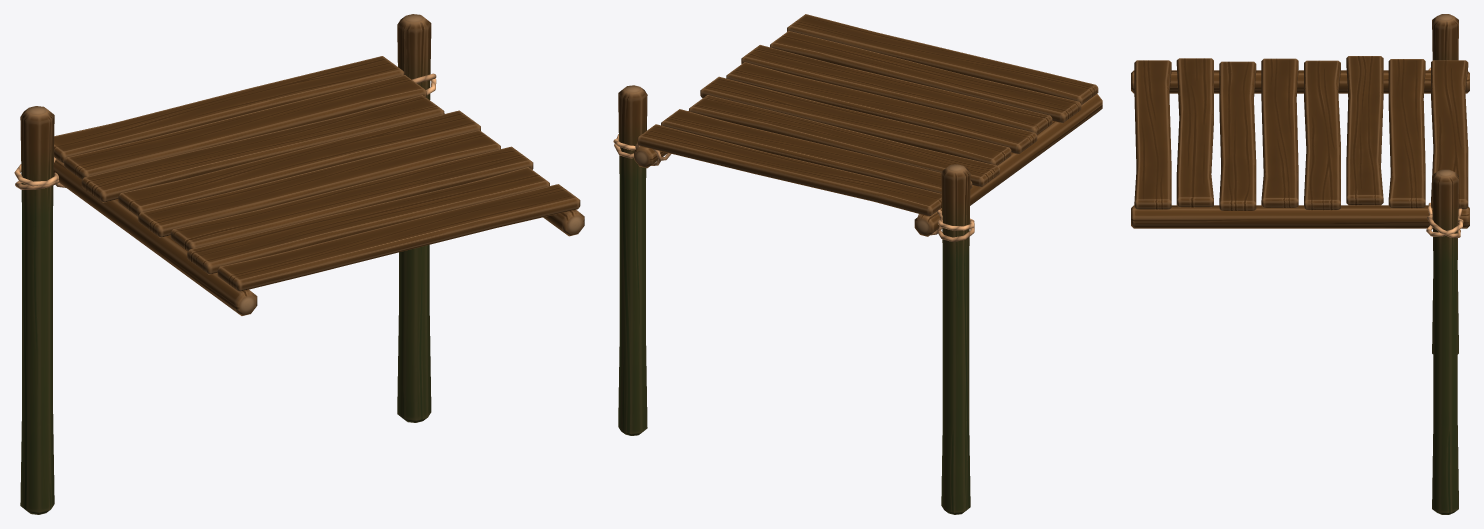
The model's file is End.1.fbx.
3 views of the same model, side by side, from view 1: azimuth 30°, elevation 25°; view 2: azimuth 150°, elevation 25°; view 3: azimuth 270°, elevation 25° (orthographic). The views are drawn at different scales.
Visible parts, largest first — view 1: End.1; view 2: End.1; view 3: End.1.
Boxes of the visible parts, x1,y1,x2,y2 form: End.1: [14, 14, 584, 514]; End.1: [613, 14, 1102, 514]; End.1: [1131, 14, 1469, 514].
Bounding box in the file's own units: 240 × 220 × 200.
